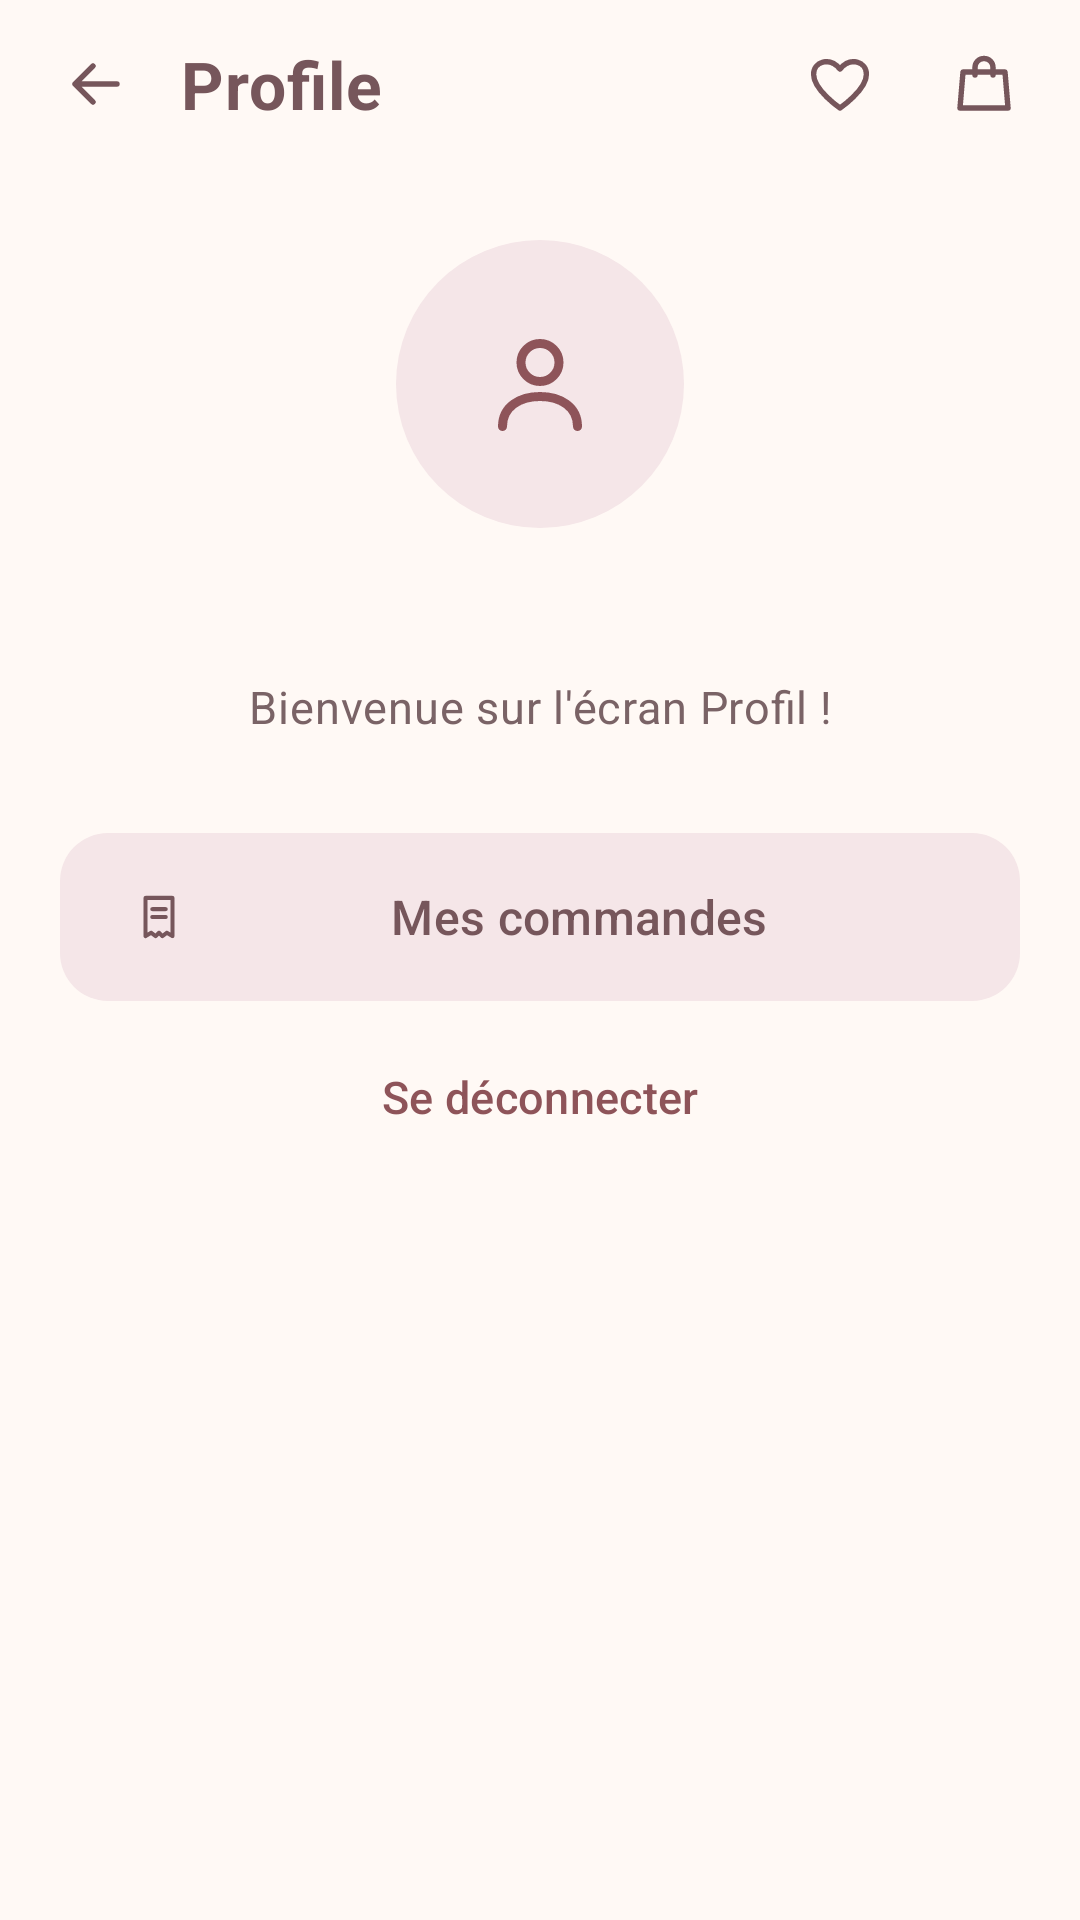

Icon bounding boxes for this 1080w x 1920h phone screenshot, format (left=x1, top=y1, right=x2, bottom=y2):
Mes favoris: (left=811, top=59, right=869, bottom=111)
Mon panier: (left=957, top=55, right=1011, bottom=111)
Retour: (left=72, top=63, right=120, bottom=105)
